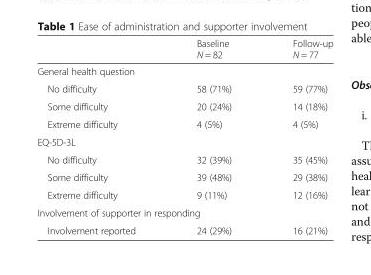table: (36, 37, 332, 235)
table column: (36, 37, 165, 235), (165, 37, 261, 235), (261, 37, 332, 235)
table column header: (36, 37, 332, 62)
table projected row header: (36, 132, 332, 150), (36, 203, 332, 221), (36, 62, 332, 79)
table row: (36, 37, 332, 62), (36, 79, 332, 97), (36, 97, 332, 115), (36, 132, 332, 150), (36, 150, 332, 168), (36, 185, 332, 203), (36, 203, 332, 221), (36, 62, 332, 79), (36, 115, 332, 132), (36, 168, 332, 185), (36, 221, 332, 235)
